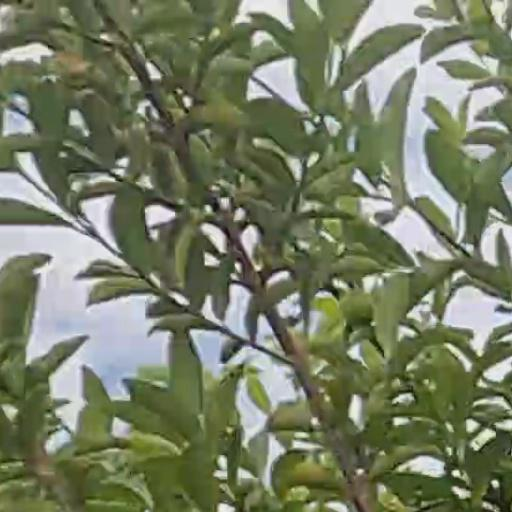acerola: (274, 451, 321, 490), (418, 347, 453, 380)
